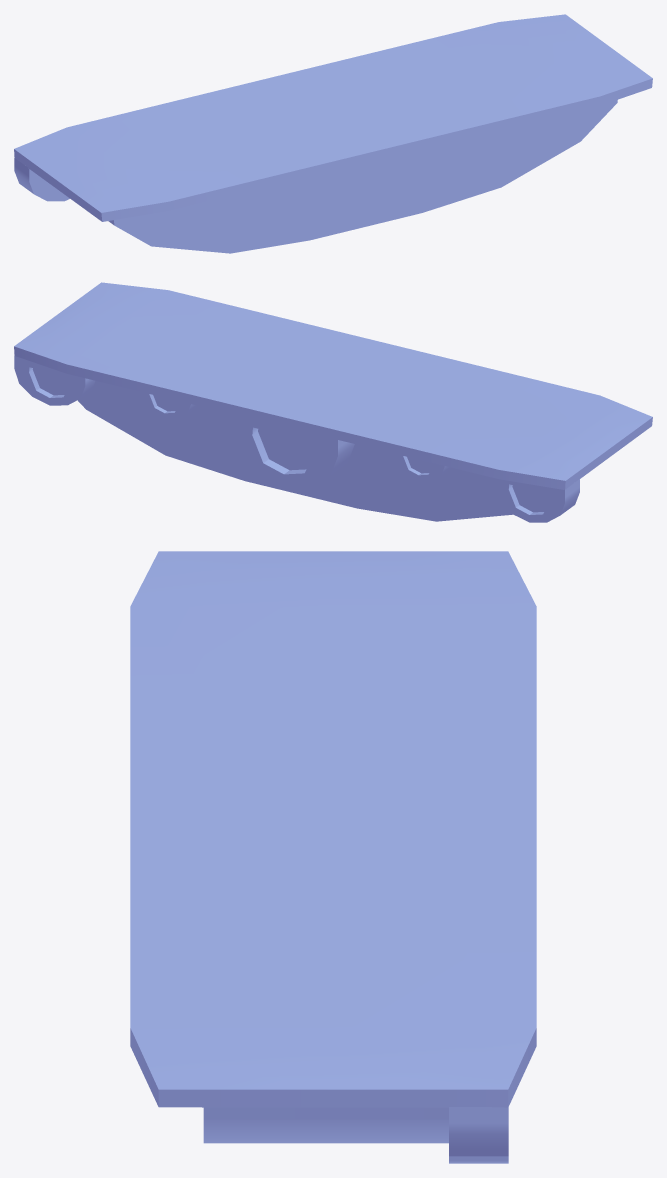
The model's file is Platform_1_Fixed.fbx.
3 renders of one model, top to bottom at view 1: azimuth 30°, elevation 25°; view 2: azimuth 150°, elevation 25°; view 3: azimuth 270°, elevation 25°, orthographic. The views are drawn at different scales.
Visible parts, largest first — view 1: Platform_1; view 2: Platform_1; view 3: Platform_1.
Boxes of the visible parts, x1,y1,x2,y2 form: Platform_1: (14,14,652,253); Platform_1: (14,282,652,522); Platform_1: (130,551,536,1163).
Size of the model in its own units: 11.3 by 1.78 by 3.6.
